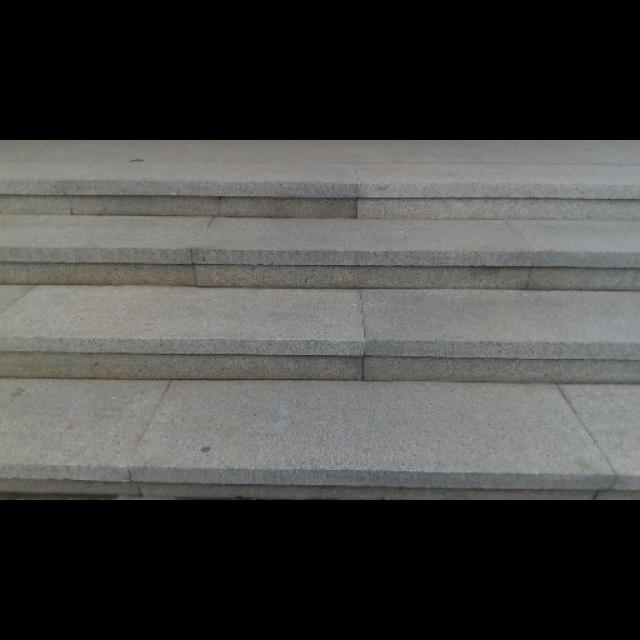Stairs: (0, 156, 639, 496)
